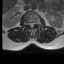CCS_normal: (31, 21, 32, 30)
LFS_normal: (34, 20, 36, 25)
LLS_normal: (32, 21, 34, 27)
RFS_normal: (27, 21, 29, 26)
RLS_normal: (29, 22, 31, 27)
